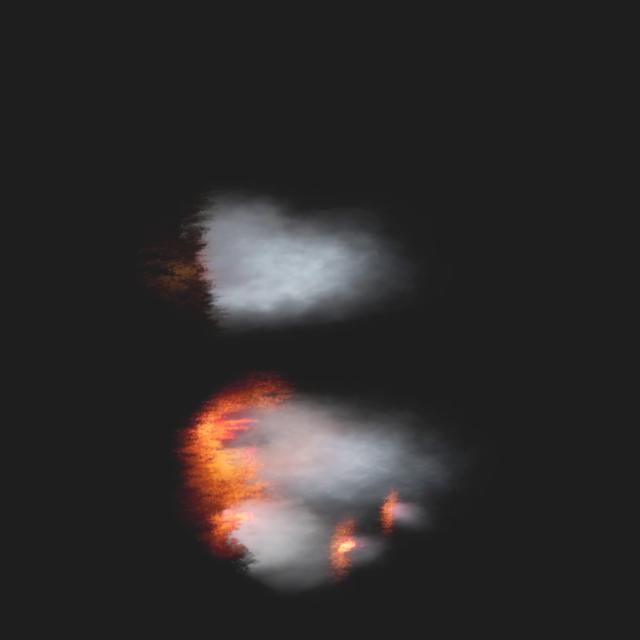fire: (176, 388, 283, 544), (338, 538, 362, 552)
smoke: (226, 386, 467, 594), (198, 188, 401, 332), (391, 502, 421, 527), (350, 543, 383, 563)
